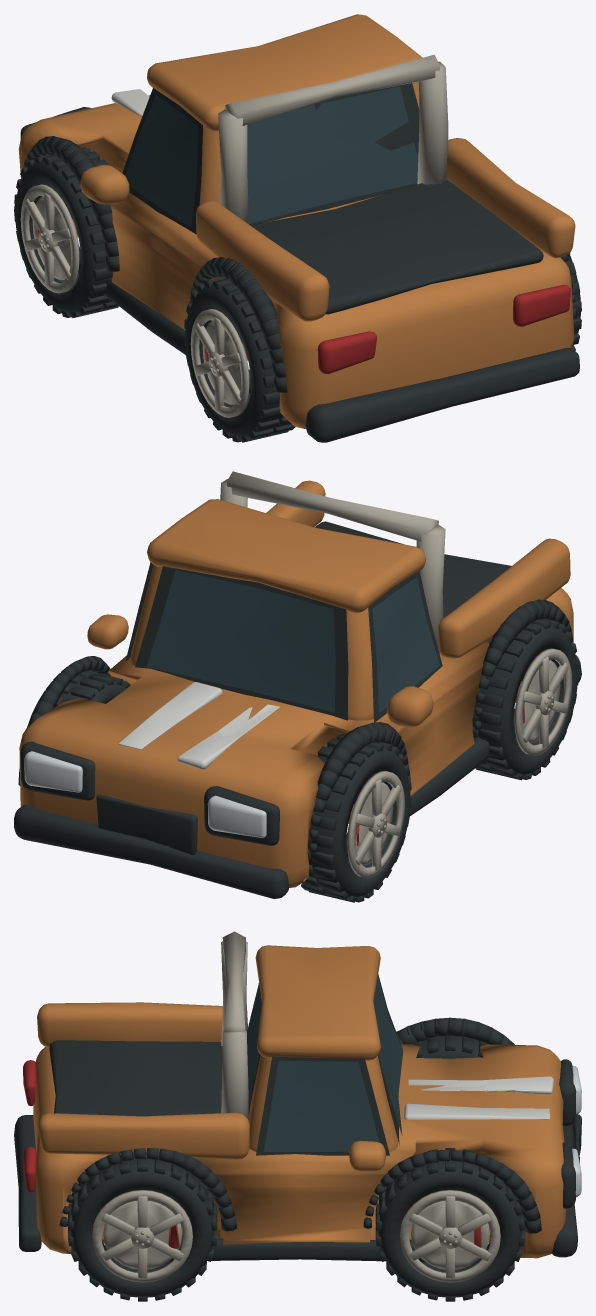
Rendered from car_pickup.glb.
The picture shows the model from 3 angles, top to bottom: view 1: azimuth 30°, elevation 25°; view 2: azimuth 150°, elevation 25°; view 3: azimuth 270°, elevation 25°; orthographic projection. The views are drawn at different scales.
Parts seen in each view (by area): view 1: Body.004, WheelMesh.018, WheelMesh.016, WheelMesh.019; view 2: Body.004, WheelMesh.016, WheelMesh.018, WheelMesh.017; view 3: Body.004, WheelMesh.019, WheelMesh.017, WheelMesh.016.
Part boxes in pixels (box(x1,y1,x2,y2)): Body.004: box(14, 14, 579, 442); WheelMesh.018: box(184, 277, 295, 442); WheelMesh.016: box(14, 147, 118, 317); WheelMesh.019: box(565, 253, 581, 350); Body.004: box(14, 471, 581, 898); WheelMesh.016: box(301, 734, 411, 902); WheelMesh.018: box(472, 619, 578, 780); WheelMesh.017: box(55, 671, 130, 707); Body.004: box(14, 931, 581, 1262); WheelMesh.019: box(68, 1155, 217, 1301); WheelMesh.017: box(375, 1148, 524, 1301); WheelMesh.016: box(413, 1035, 487, 1058).
Bounding box in the file's own units: 2.64 × 2.09 × 4.19.
